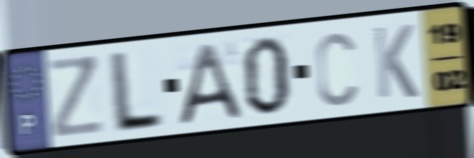0: (240, 34, 293, 118)
A: (175, 39, 245, 127)
C: (313, 29, 359, 110)
K: (370, 21, 420, 102)
L: (109, 47, 166, 136)
Z: (45, 51, 108, 141)
